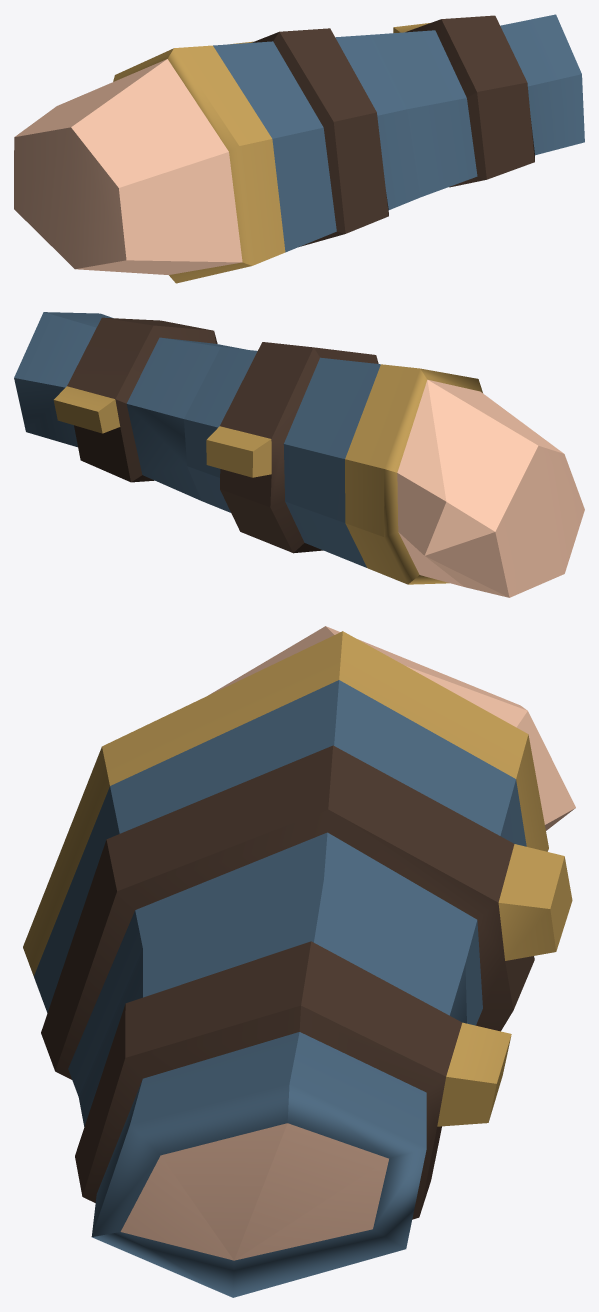
The model's file is Chr_ArmLowerLeft_Male_14_Static.fbx.
The picture shows the model from 3 angles, top to bottom: view 1: azimuth 30°, elevation 25°; view 2: azimuth 150°, elevation 25°; view 3: azimuth 270°, elevation 25°; orthographic projection. The views are drawn at different scales.
Parts seen in each view (by area): view 1: Chr_ArmLowerLeft_Male_14_Static; view 2: Chr_ArmLowerLeft_Male_14_Static; view 3: Chr_ArmLowerLeft_Male_14_Static.
Part boxes in pixels (box(x1,y1,x2,y2)): Chr_ArmLowerLeft_Male_14_Static: box(14, 14, 584, 283); Chr_ArmLowerLeft_Male_14_Static: box(14, 312, 584, 597); Chr_ArmLowerLeft_Male_14_Static: box(23, 626, 575, 1297).
Size of the model in its own units: 0.2896 by 0.1199 by 0.1406.
